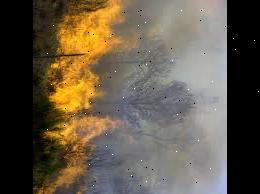fire: (33, 0, 142, 194)
